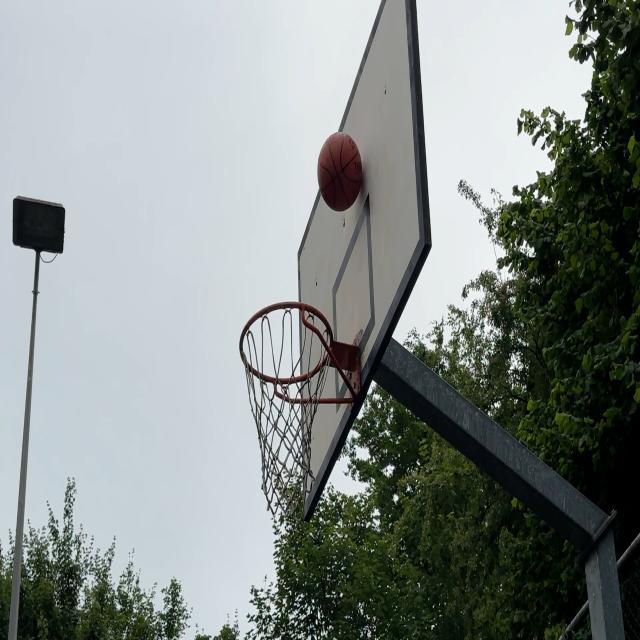rebound_hit: (319, 134, 367, 212)
